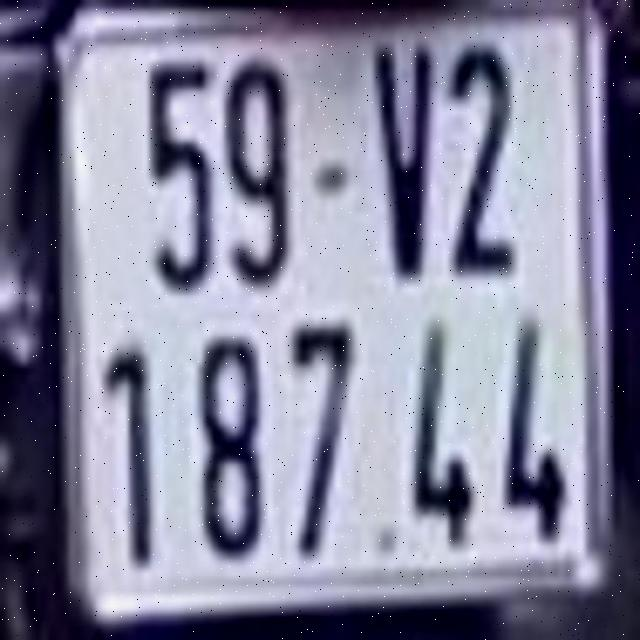1: (101, 350, 160, 566)
2: (446, 44, 519, 277)
4: (501, 313, 568, 544), (410, 317, 475, 549)
5: (146, 60, 214, 291)
7: (288, 320, 354, 557)
8: (197, 333, 264, 558)
9: (223, 58, 292, 287)
V: (369, 41, 438, 280)
